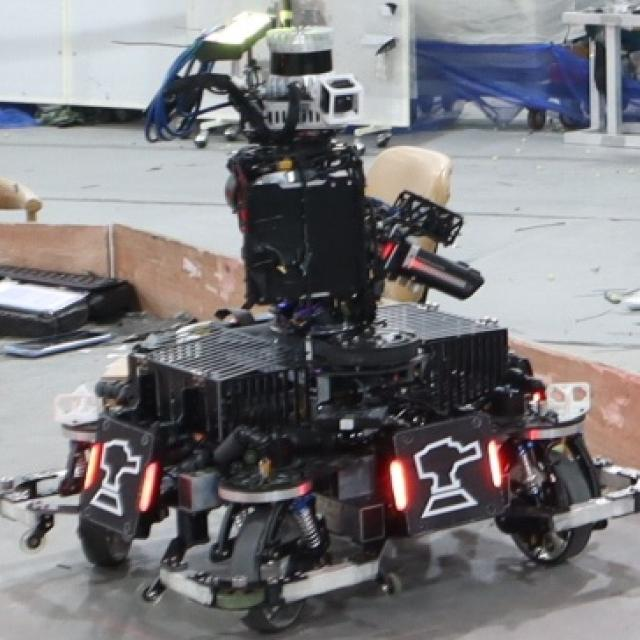Rs: (389, 431, 508, 521), (79, 426, 157, 526)
